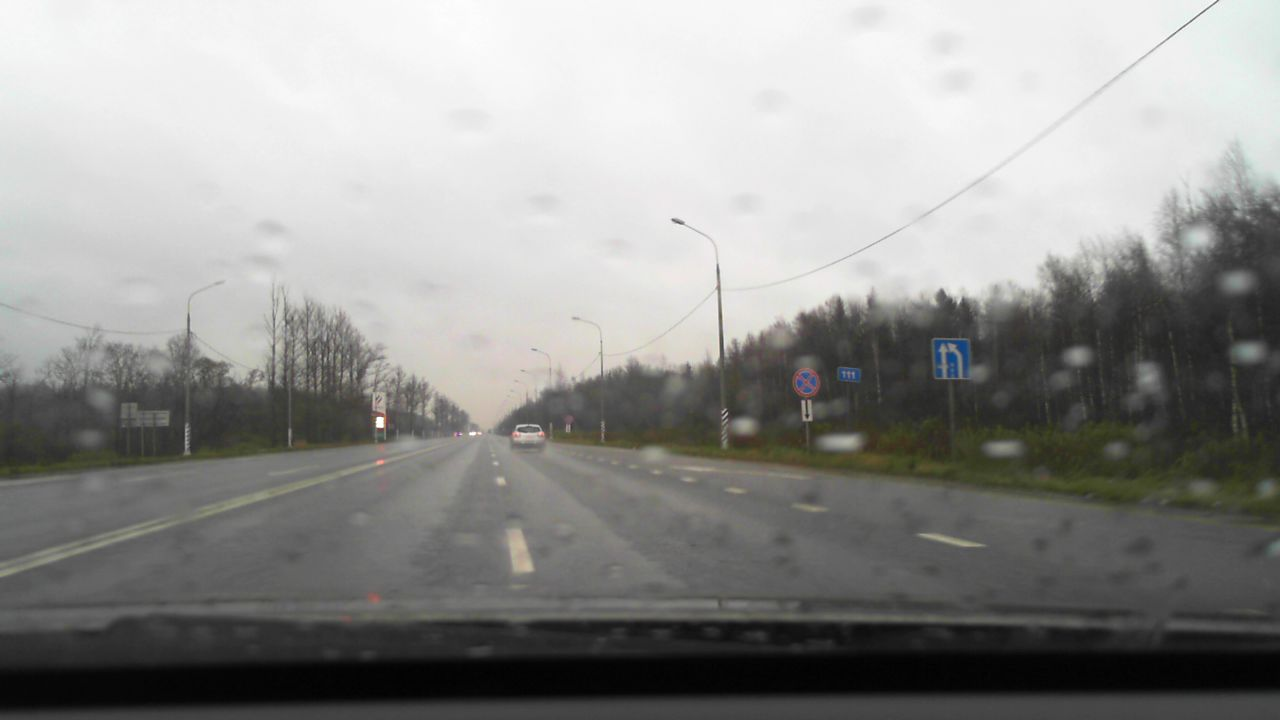No Parking: (792, 368, 820, 398)
